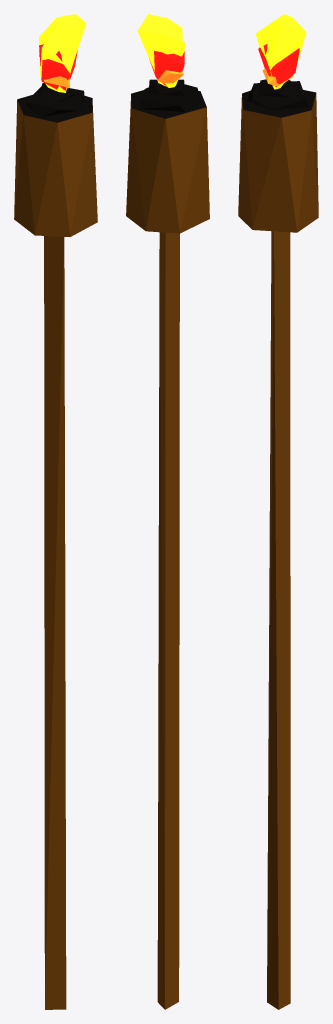
The model's file is Tiki Torch.glb.
The picture shows the model from 3 angles, left to right: view 1: azimuth 30°, elevation 25°; view 2: azimuth 210°, elevation 25°; view 3: azimuth 330°, elevation 25°; orthographic projection.
Visible parts, largest first — view 1: Torch, Fire; view 2: Torch, Fire; view 3: Torch, Fire.
Part boxes in pixels (left/top/right/bottom): Torch: left=14, top=83, right=97, bottom=1009; Fire: left=39, top=14, right=86, bottom=92; Torch: left=126, top=79, right=209, bottom=1009; Fire: left=137, top=14, right=184, bottom=87; Torch: left=238, top=79, right=318, bottom=1009; Fire: left=255, top=14, right=306, bottom=89.
Size of what is drawn, in the model's own units: 0.1699 by 2.32 by 0.1696.
